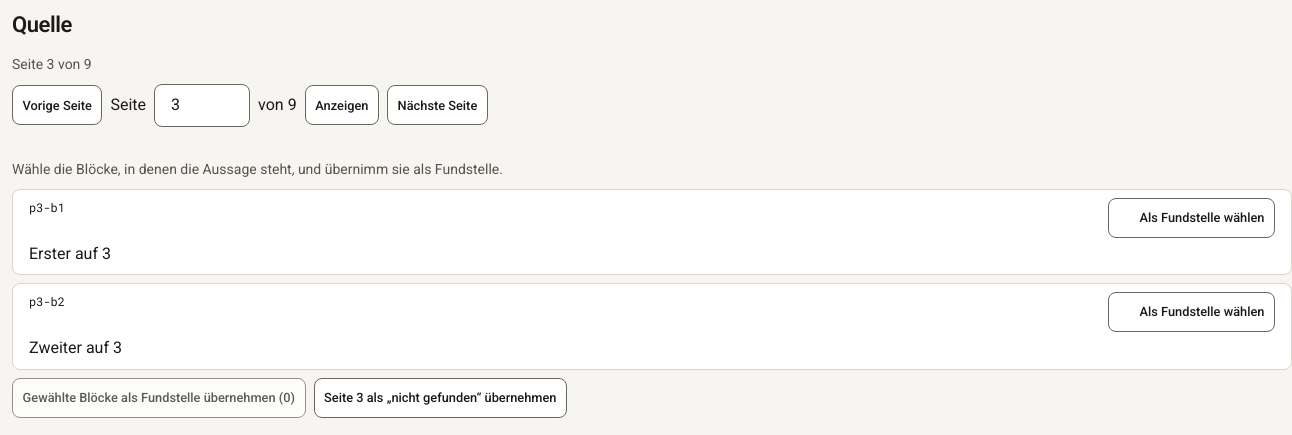
Test case: the source a statement's anchor is chosen in › lets a block chosen go again
What coordinates should you click on to do the following:
click the button "Als Fundstelle wählen" in the row of "p3-b1"
I would click on:
 (1192, 218)
Its box is [1108, 198, 1275, 238].
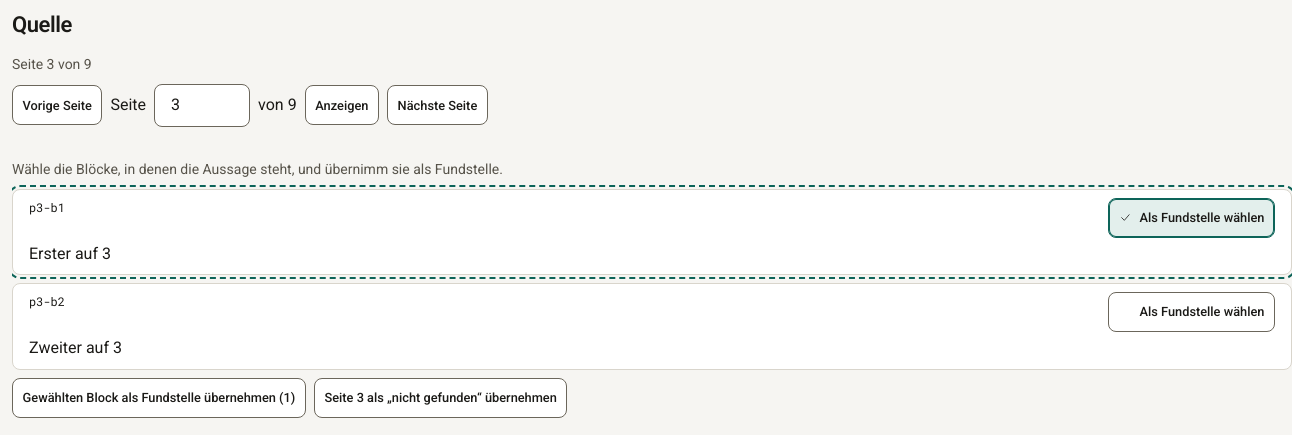
What coordinates should you click on to do the following:
click the button "Als Fundstelle wählen" in the row of "p3-b1"
I would click on:
 (1192, 218)
Its box is [1108, 198, 1275, 238].
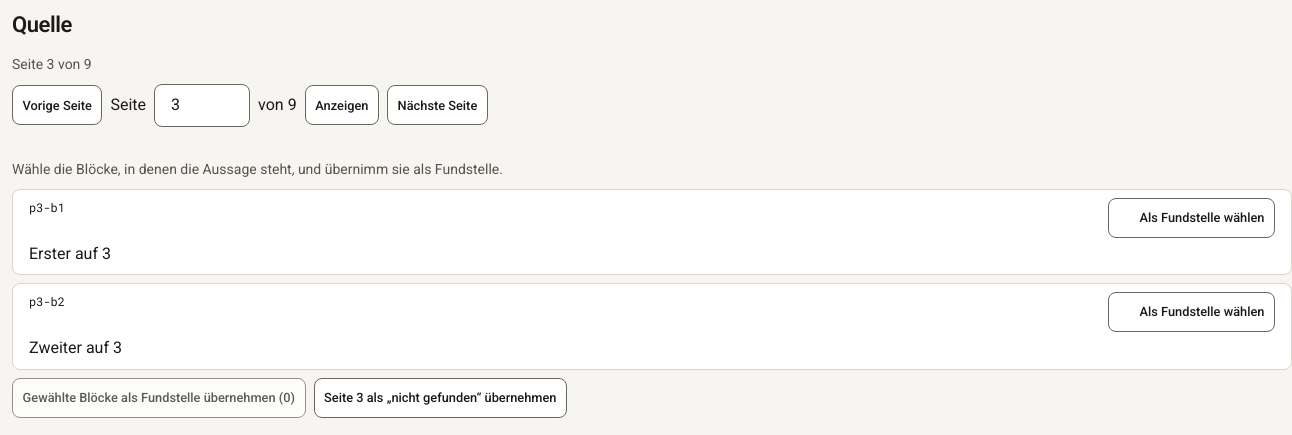
Now the button with test id "take" shows "(0)", box [12, 378, 306, 418]
